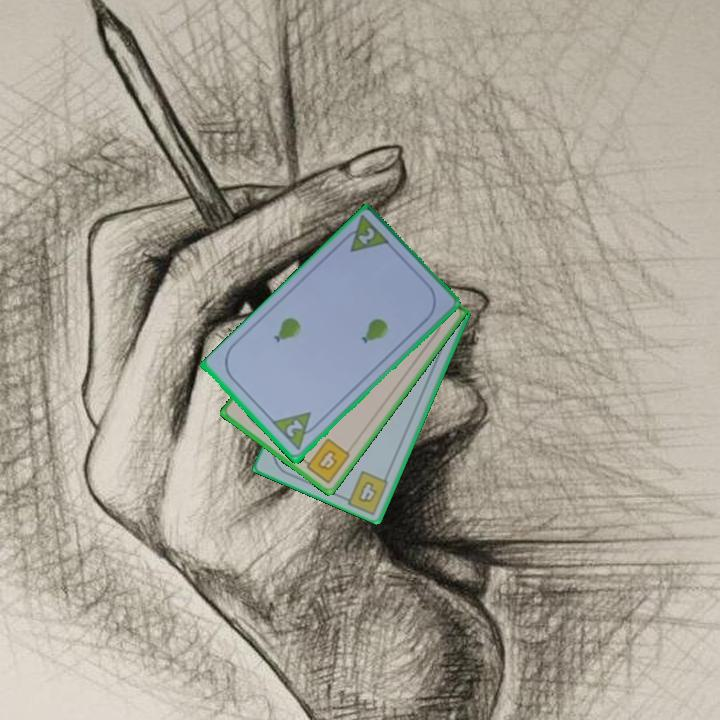2p: (282, 416, 306, 441), (354, 224, 378, 248)
4b: (298, 435, 353, 486), (354, 478, 380, 506)
